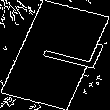L_W: (16, 32, 94, 78)
